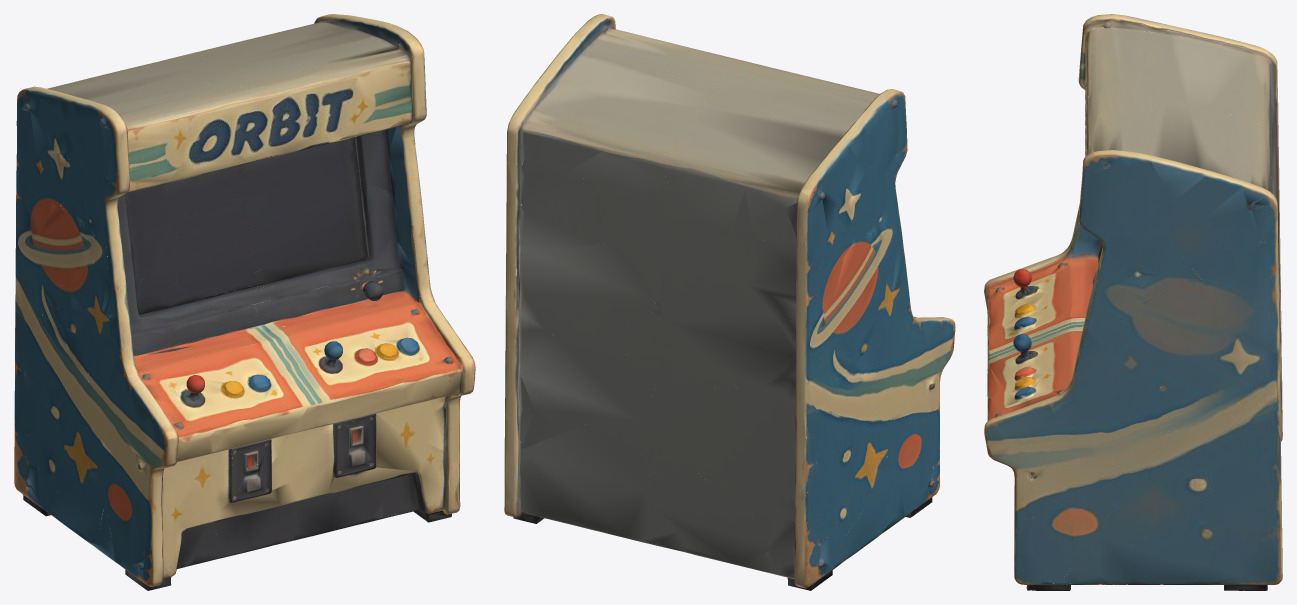
The model's file is cab_orbit.glb.
3 renders of one model, left to right at view 1: azimuth 30°, elevation 25°; view 2: azimuth 150°, elevation 25°; view 3: azimuth 270°, elevation 25°, orthographic. The views are drawn at different scales.
Parts seen in each view (by area): view 1: tripo_node_64389d8c-4a7f-4d1a-bd88-0cca6272c469; view 2: tripo_node_64389d8c-4a7f-4d1a-bd88-0cca6272c469; view 3: tripo_node_64389d8c-4a7f-4d1a-bd88-0cca6272c469.
Boxes of the visible parts, x1,y1,x2,y2 form: tripo_node_64389d8c-4a7f-4d1a-bd88-0cca6272c469: (14, 14, 475, 590); tripo_node_64389d8c-4a7f-4d1a-bd88-0cca6272c469: (504, 14, 955, 590); tripo_node_64389d8c-4a7f-4d1a-bd88-0cca6272c469: (984, 14, 1282, 590).
Size of the model in its own units: 0.7073 by 0.9797 by 0.6064.
Materials: 1 (1 with a texture image).
